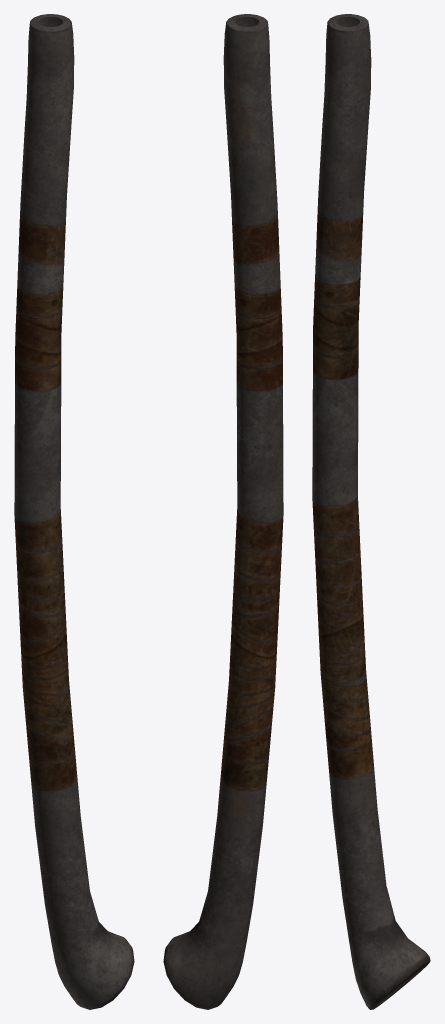
File: wm_dol_goldur_2h_axe_a02_handle.fbx
3 renders of one model, left to right at view 1: azimuth 30°, elevation 25°; view 2: azimuth 150°, elevation 25°; view 3: azimuth 330°, elevation 25°, orthographic.
Visible parts, largest first — view 1: wm_dol_goldur_2h_axe_a02_handle; view 2: wm_dol_goldur_2h_axe_a02_handle; view 3: wm_dol_goldur_2h_axe_a02_handle.
Part boxes in pixels (x1,y1,x2,y2): wm_dol_goldur_2h_axe_a02_handle: (14,14,134,1009); wm_dol_goldur_2h_axe_a02_handle: (163,14,283,1009); wm_dol_goldur_2h_axe_a02_handle: (312,14,430,1009).
Bounding box in the file's own units: 0.102 × 0.0661 × 0.8805.
1 material, 1 textured.
